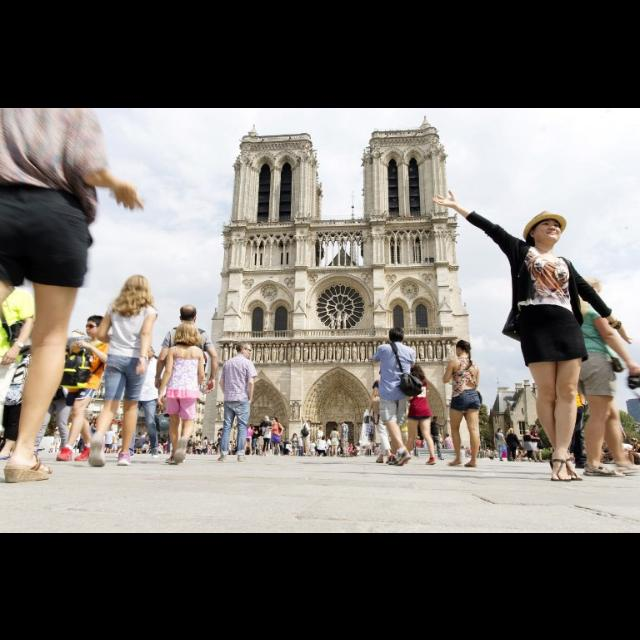head: (0, 107, 68, 139), (529, 208, 565, 244), (574, 275, 602, 307), (127, 274, 149, 298), (85, 316, 106, 338), (0, 265, 12, 299), (178, 322, 198, 342), (46, 330, 66, 350), (180, 304, 198, 326), (236, 340, 254, 360), (456, 339, 472, 356), (389, 327, 405, 343), (410, 366, 424, 380), (564, 362, 576, 374), (381, 368, 393, 378), (380, 370, 390, 380), (272, 416, 280, 424), (630, 438, 636, 446), (432, 416, 438, 424), (264, 415, 272, 421), (498, 428, 504, 434), (307, 419, 313, 425), (534, 425, 538, 431), (526, 430, 530, 436), (340, 420, 344, 426), (333, 428, 339, 432), (322, 436, 328, 440), (146, 435, 152, 439), (520, 448, 526, 452), (510, 430, 514, 434), (462, 445, 466, 449), (446, 434, 450, 438), (260, 430, 264, 434), (251, 424, 255, 428), (220, 429, 224, 433), (320, 426, 324, 430), (110, 428, 114, 432), (56, 428, 60, 432), (255, 428, 258, 432), (328, 436, 330, 439), (206, 438, 208, 440), (281, 441, 283, 443)
person: (429, 185, 635, 483), (0, 108, 148, 472), (86, 272, 158, 468), (152, 304, 220, 461), (49, 312, 111, 463), (0, 241, 36, 463), (157, 318, 209, 466), (21, 330, 79, 462), (371, 326, 419, 468), (546, 338, 590, 472), (443, 338, 485, 469), (217, 338, 260, 462), (401, 364, 439, 466), (369, 363, 401, 465), (371, 365, 401, 465), (428, 414, 446, 462), (530, 424, 546, 464), (505, 428, 523, 462), (271, 417, 285, 458), (494, 426, 508, 462), (260, 414, 272, 456), (338, 420, 350, 458), (300, 418, 312, 456), (102, 425, 116, 457), (134, 434, 152, 458), (524, 428, 536, 462), (245, 423, 257, 457), (329, 426, 341, 458), (443, 432, 455, 462), (51, 426, 63, 454), (257, 426, 267, 456), (217, 428, 227, 458), (316, 423, 326, 452), (316, 434, 328, 458), (252, 424, 260, 456), (518, 446, 530, 464), (458, 444, 466, 470), (201, 436, 209, 459), (278, 439, 286, 461), (325, 436, 333, 458)
